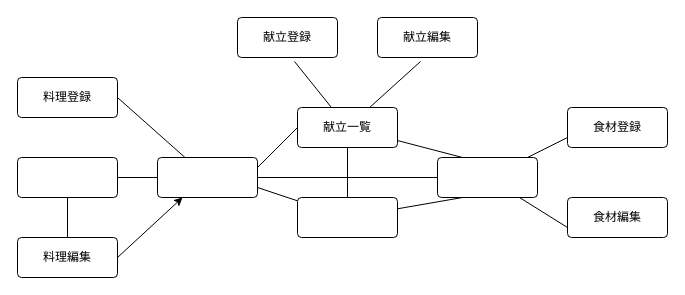
Image size: 685x295. Some labels were removed from this diagram. The shapes that lost their labels are listed below. From the top down, each one's centre as x and y in pixels, then its label:
At (x=67, y=177): "料理詳細".
At (x=207, y=177): "料理一覧".
At (x=487, y=177): "食材一覧".
At (x=347, y=217): "買い物リスト".
